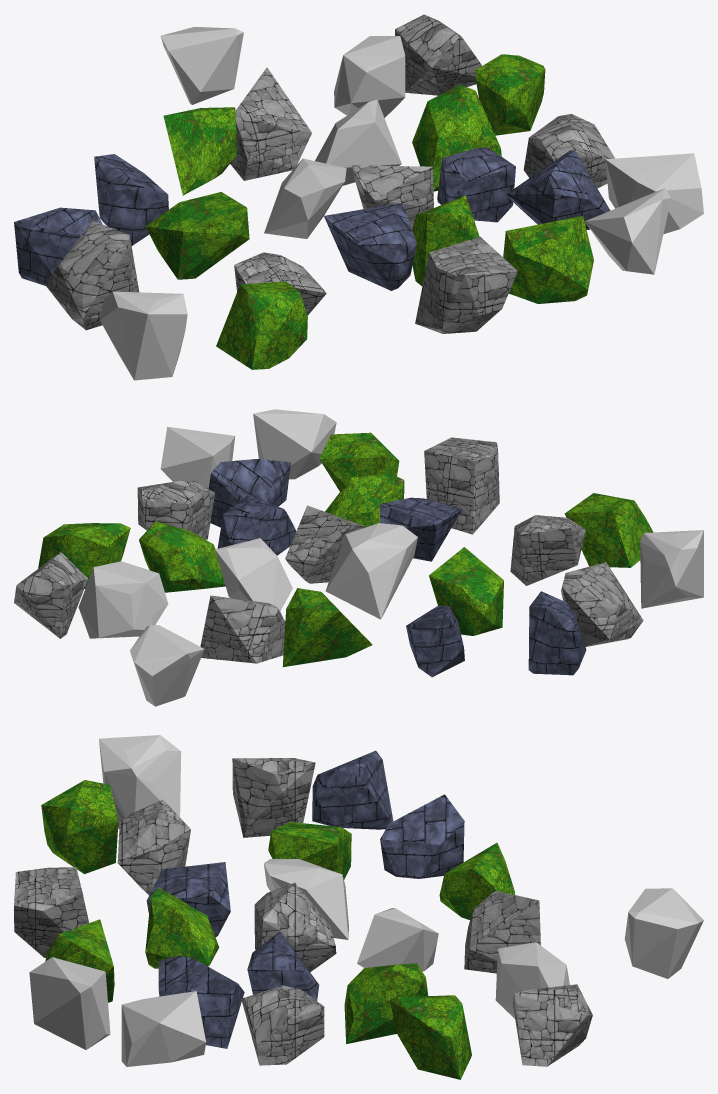
Rendered from CombinedRock.fbx.
The picture shows the model from 3 angles, top to bottom: view 1: azimuth 30°, elevation 25°; view 2: azimuth 150°, elevation 25°; view 3: azimuth 270°, elevation 25°; orthographic projection. The views are drawn at different scales.
Parts seen in each view (by area): view 1: CombinedRock; view 2: CombinedRock; view 3: CombinedRock.
Boxes of the visible parts, x1,y1,x2,y2 form: CombinedRock: (14, 14, 703, 380); CombinedRock: (14, 409, 703, 706); CombinedRock: (14, 735, 703, 1079).
Size of the model in its own units: 7.88 by 0.9952 by 7.98.
